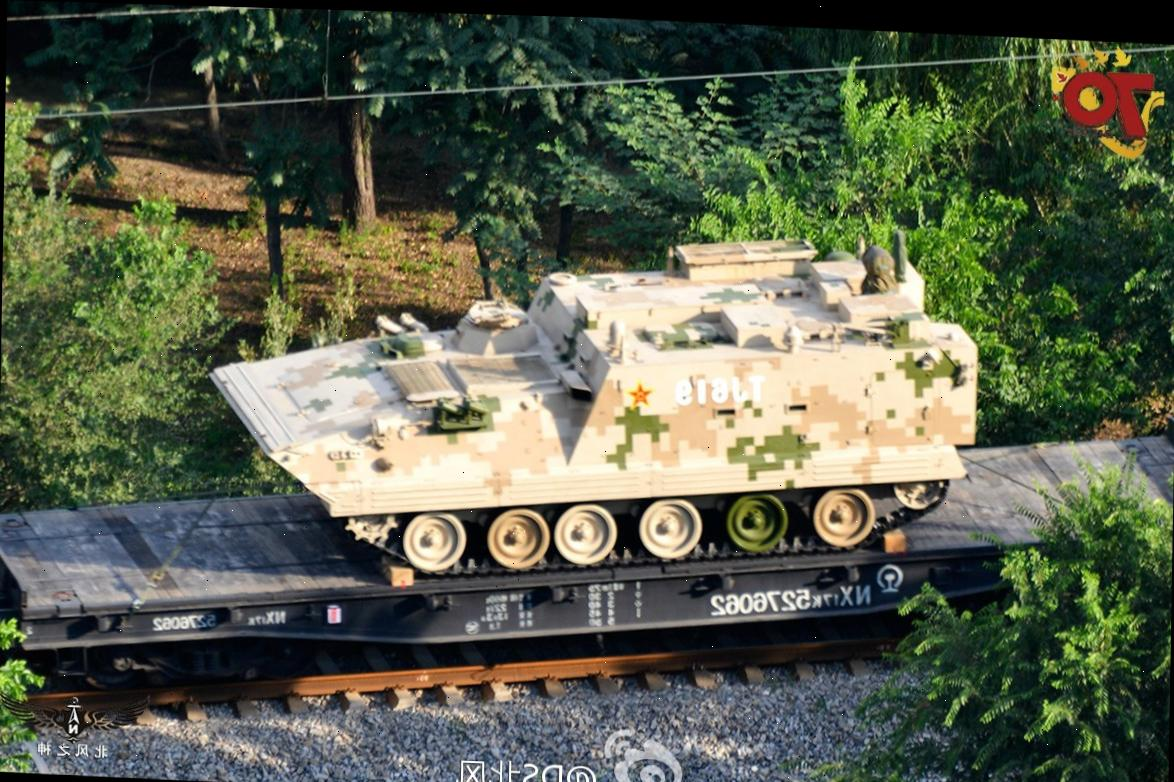tank: (204, 201, 982, 610)
